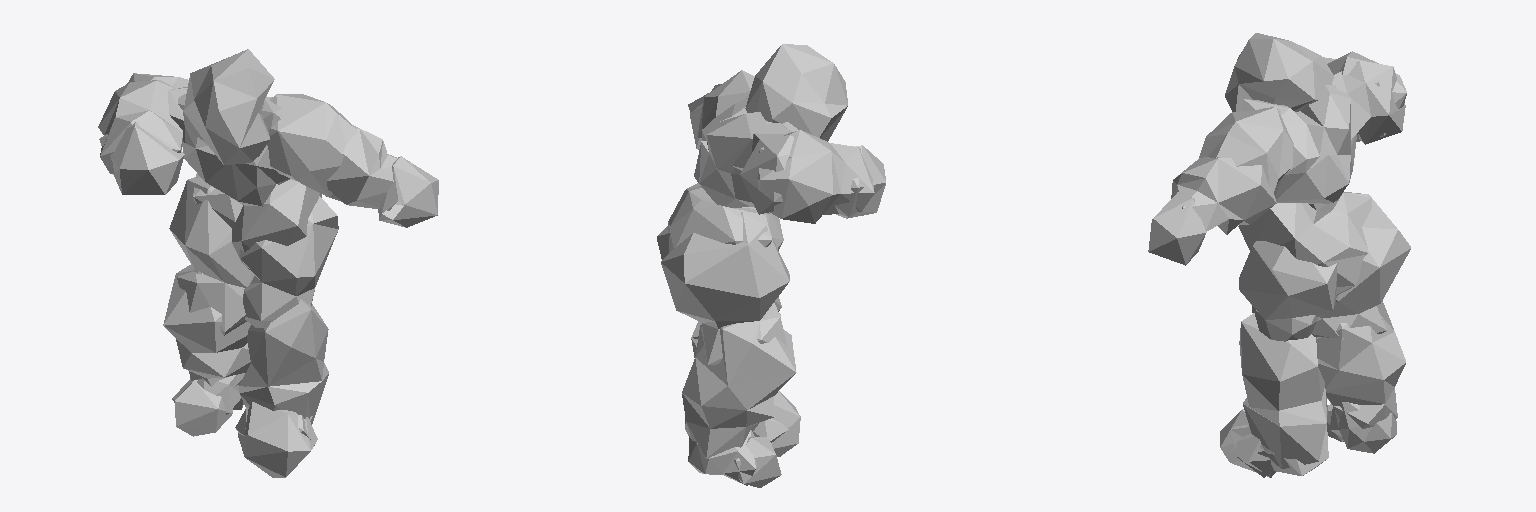
Rendered from dance_frames0363.obj.
3 views of the same model, side by side, from view 1: azimuth 30°, elevation 25°; view 2: azimuth 150°, elevation 25°; view 3: azimuth 270°, elevation 25° (orthographic).
Visible parts, largest first — view 1: Beta_Surface; view 2: Beta_Surface; view 3: Beta_Surface.
Part boxes in pixels (x1,y1,x2,y2): Beta_Surface: (98,49,438,477); Beta_Surface: (657,44,885,487); Beta_Surface: (1148,33,1410,477).
Bounding box in the file's own units: 1.29 × 1.99 × 1.12.